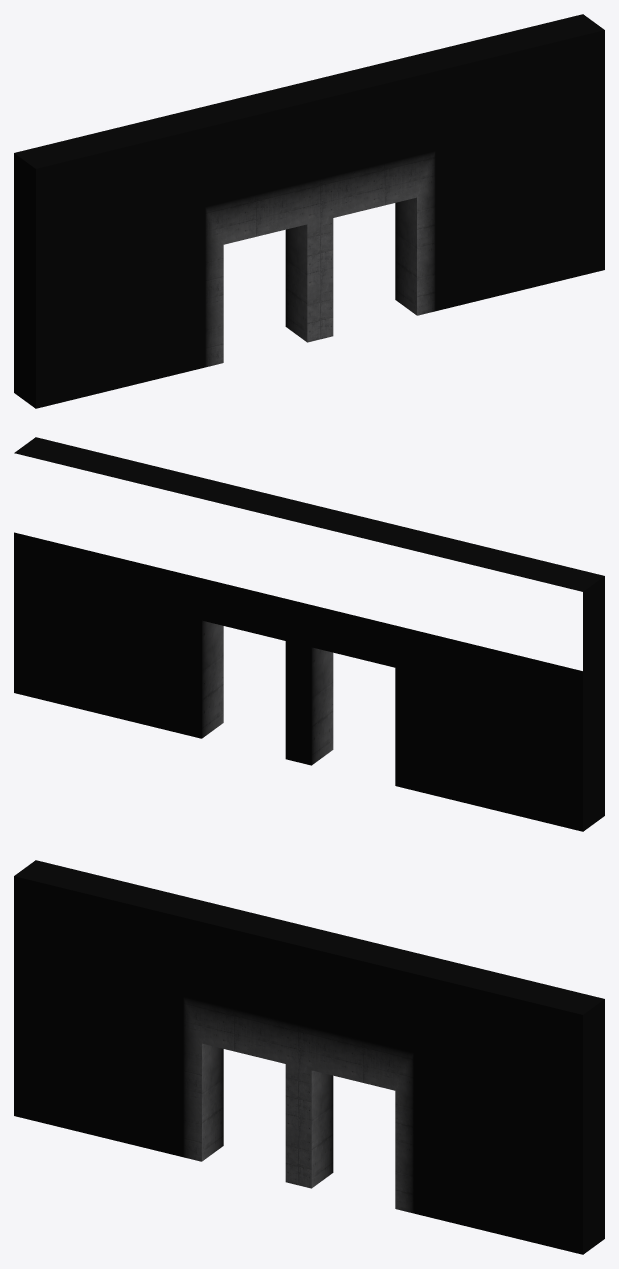
File: AMB_CHIKA_OUT.glb
The picture shows the model from 3 angles, top to bottom: view 1: azimuth 30°, elevation 25°; view 2: azimuth 150°, elevation 25°; view 3: azimuth 330°, elevation 25°; orthographic projection.
Parts seen in each view (by area): view 1: BASE; view 2: BASE; view 3: BASE.
Part boxes in pixels (x1,y1,x2,y2): BASE: [14, 14, 604, 408]; BASE: [14, 437, 604, 831]; BASE: [14, 860, 604, 1254].
Bounding box in the file's own units: 75.14 × 30.26 × 5.
1 material, 1 textured.
